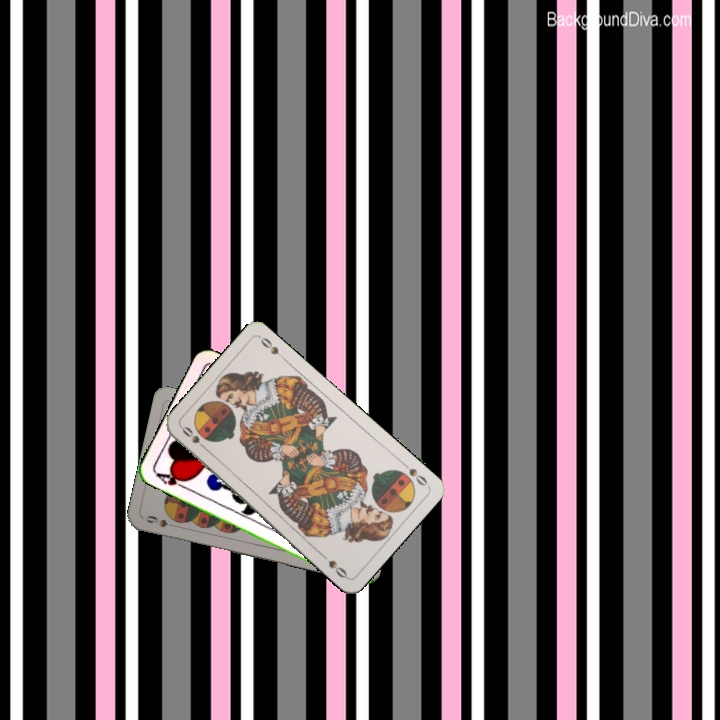HA: (151, 468, 191, 492)
S9: (142, 511, 181, 530)
SO: (177, 422, 211, 454), (398, 458, 430, 489)
